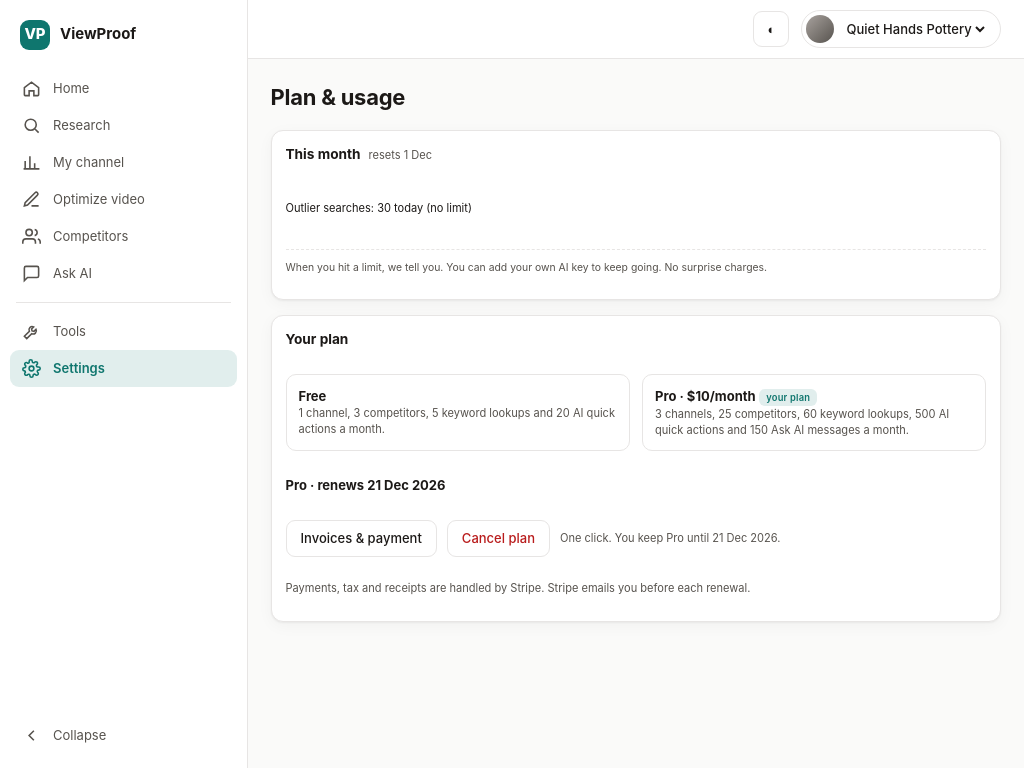
it: Settings → Plan & usage › pro: renews date, portal button, one-click cancel then resume
Expected: the text "Pro · renews 21 Dec 2026" is shown, [286,477,446,493]
Expected: the text "Outlier searches: 30 today (no limit)" is shown, [286,200,472,214]
Click the button "Cancel plan".
click(498, 538)  # box [447,520,550,557]
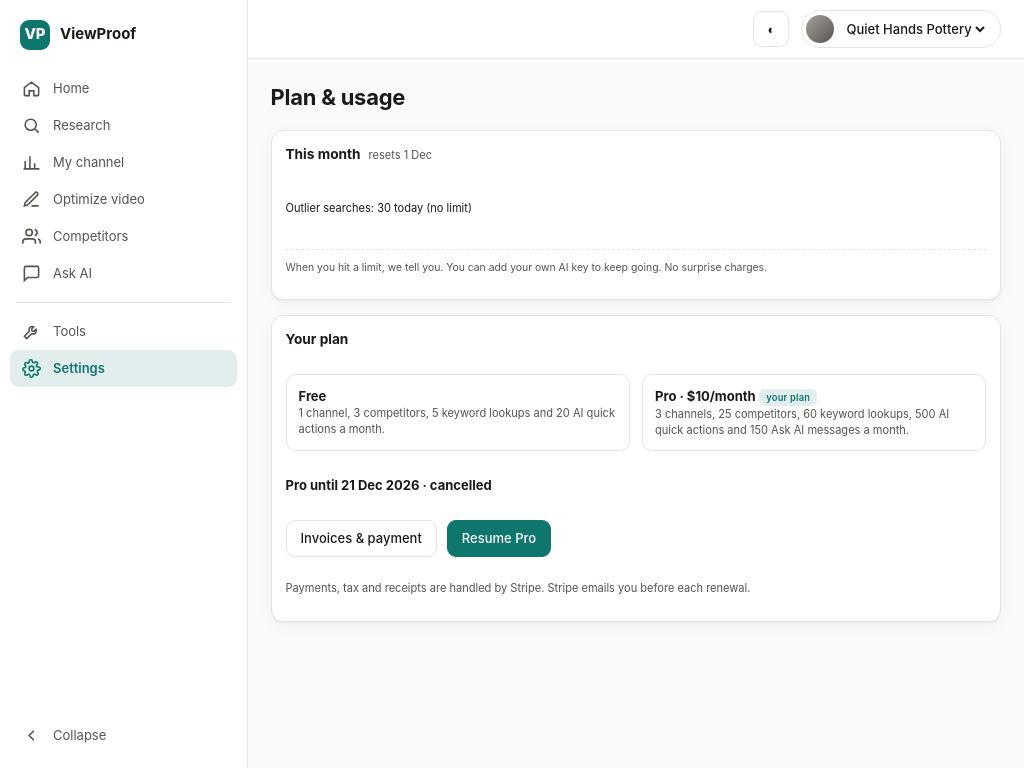
Expected: the text "Pro until 21 Dec 2026 · cancelled" is shown, [286,477,492,493]
Click the button "Resume Pro".
click(499, 538)  # box [447,520,551,557]
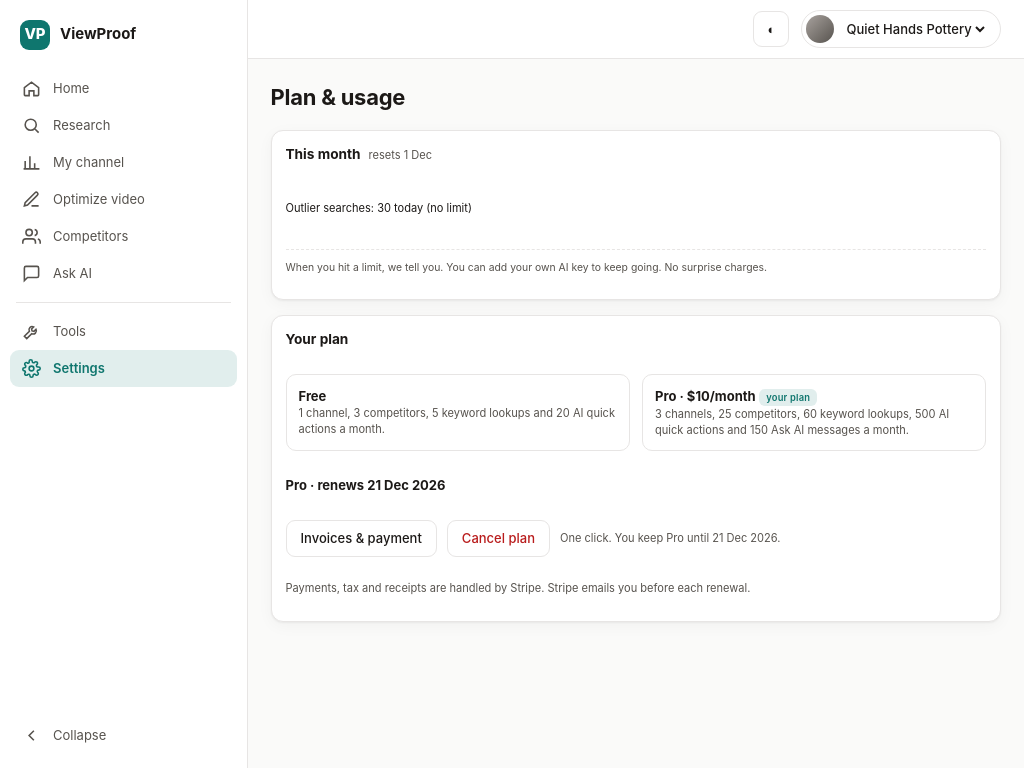
Expected: the text "Pro · renews 21 Dec 2026" is shown, [286,477,446,493]
